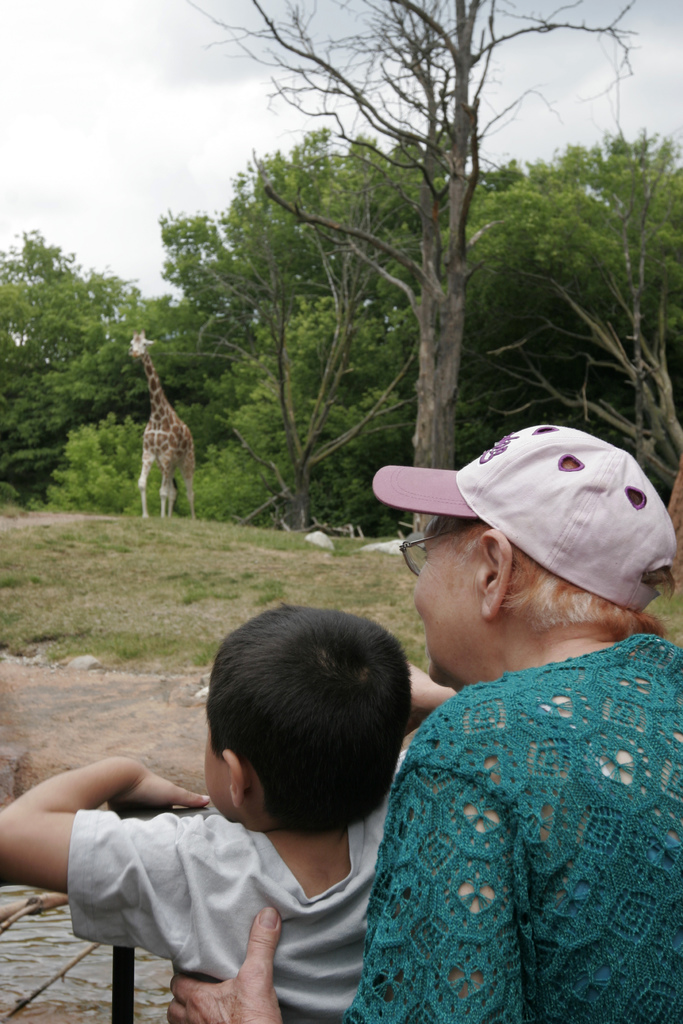Human-face: (412, 502, 645, 677), (195, 720, 259, 829)
